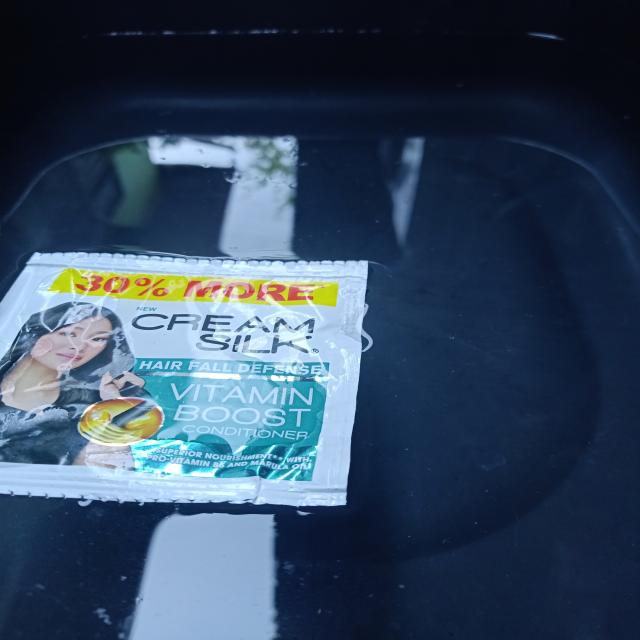Plastic Wrapper: (0, 228, 397, 542)
